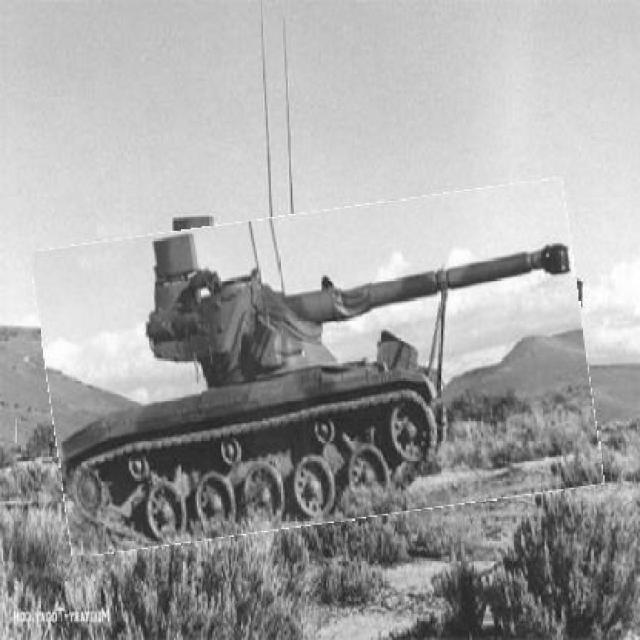Tank: (41, 196, 596, 541)
